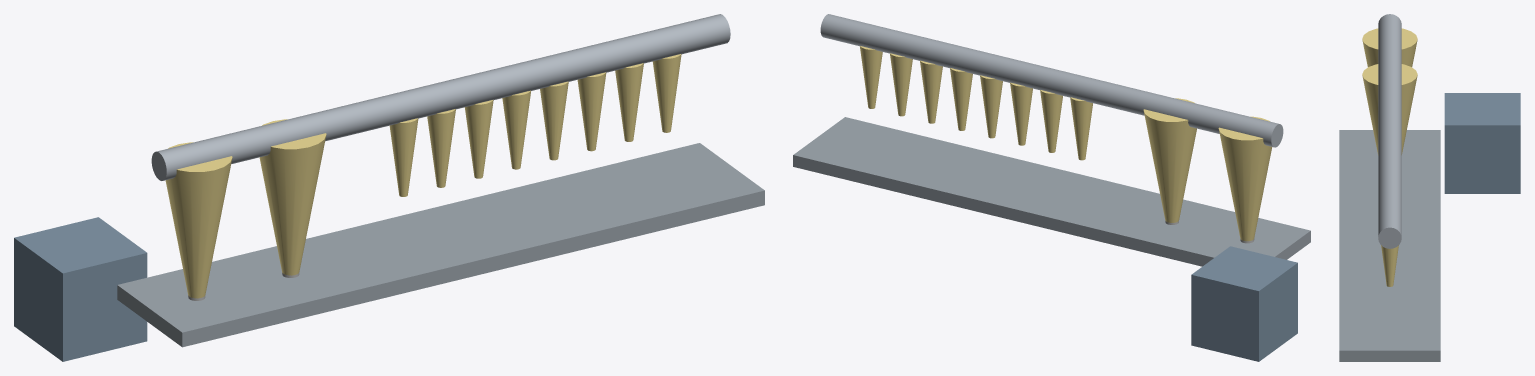
The model's file is desander.glb.
The picture shows the model from 3 angles, left to right: view 1: azimuth 30°, elevation 25°; view 2: azimuth 150°, elevation 25°; view 3: azimuth 270°, elevation 25°; orthographic projection. The views are drawn at different scales.
Size of the model in its own units: 6.75 by 2.24 by 2.15.
